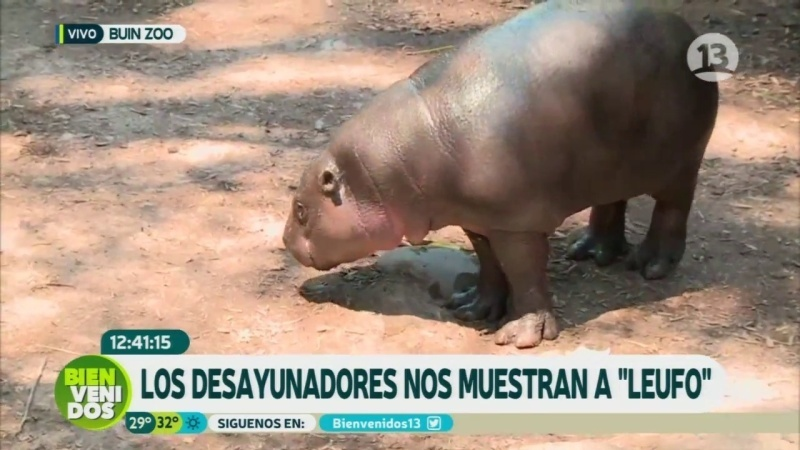hipopotamo: (273, 1, 737, 339)
